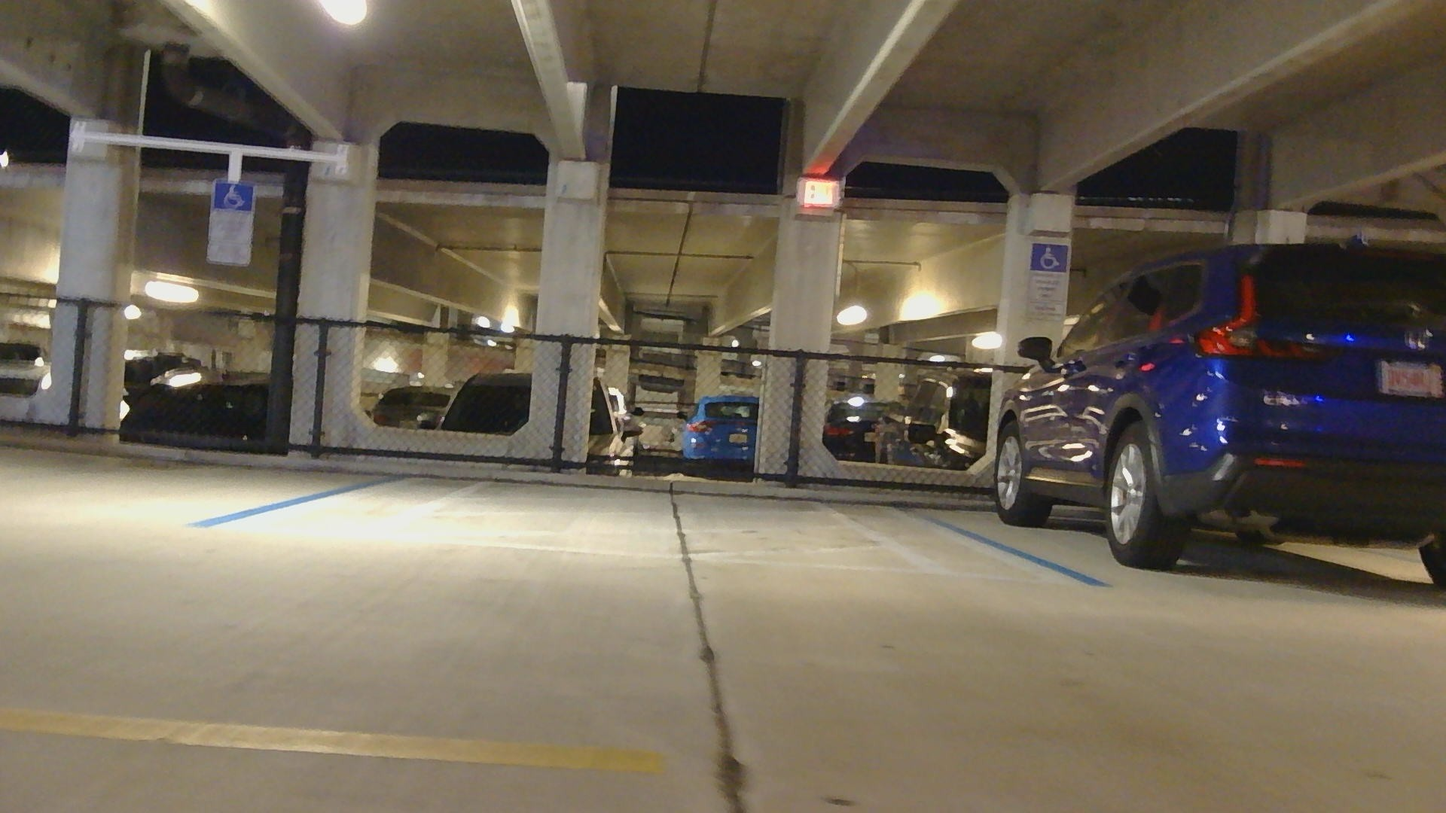empty_spot: (0, 335, 452, 549)
occupied_spot: (982, 224, 1445, 608)
